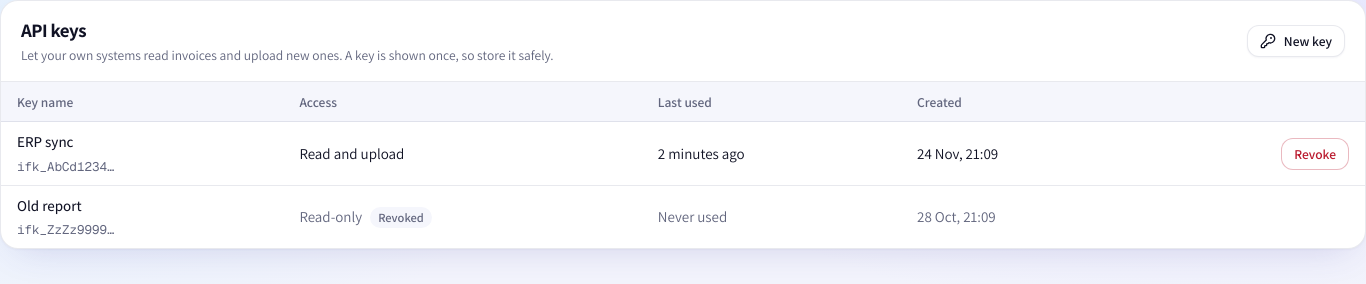
Test: API keys › asks before revoking, then revokes
Later steps or results of the test are not shown.
Click the button with aria-label "Revoke · ERP sync" at (1315, 154), box [1281, 138, 1349, 170]
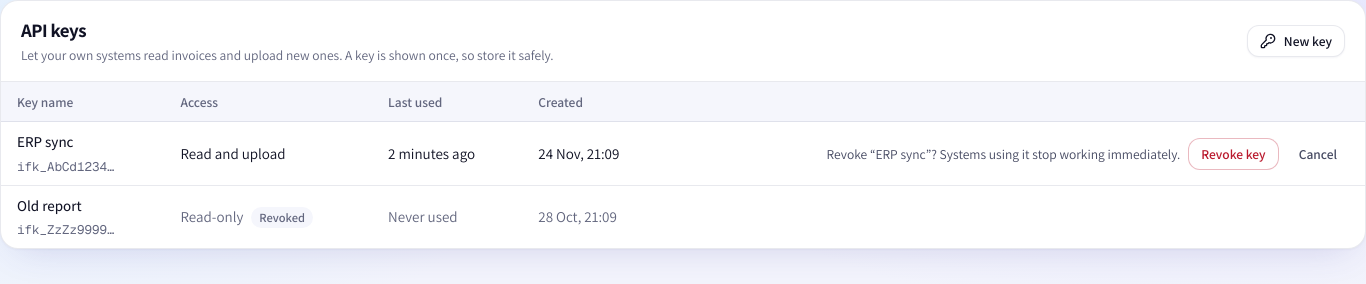
Expected: the text "stop working immediately" is shown, [827, 145, 1180, 163]
